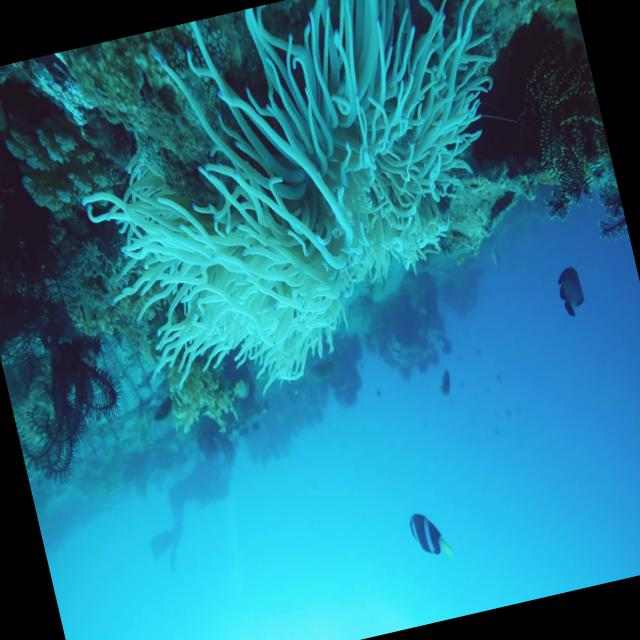fish: (406, 508, 454, 568), (552, 262, 590, 322)
